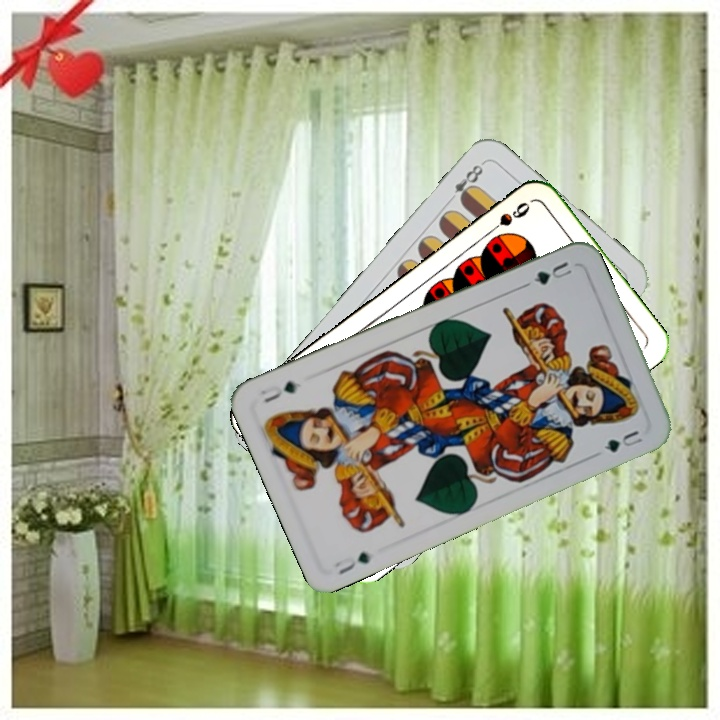E8: (450, 158, 487, 206)
GU: (529, 257, 576, 288), (330, 547, 374, 577)
S9: (482, 197, 533, 238)
